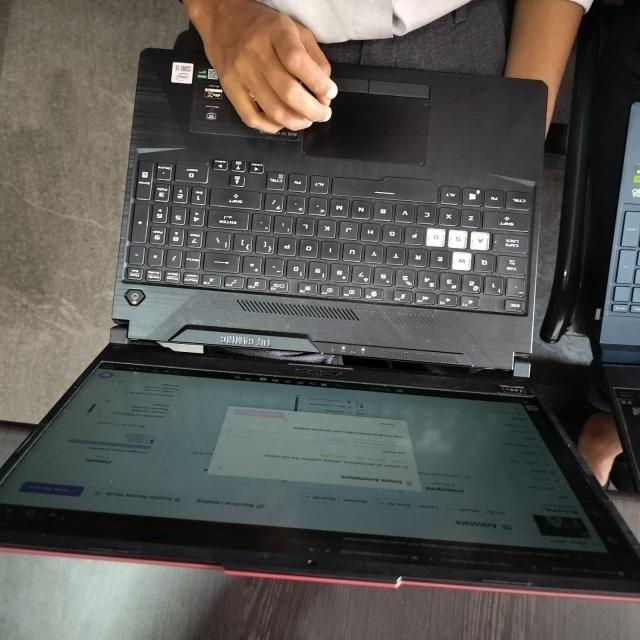laptop: (0, 38, 640, 574)
